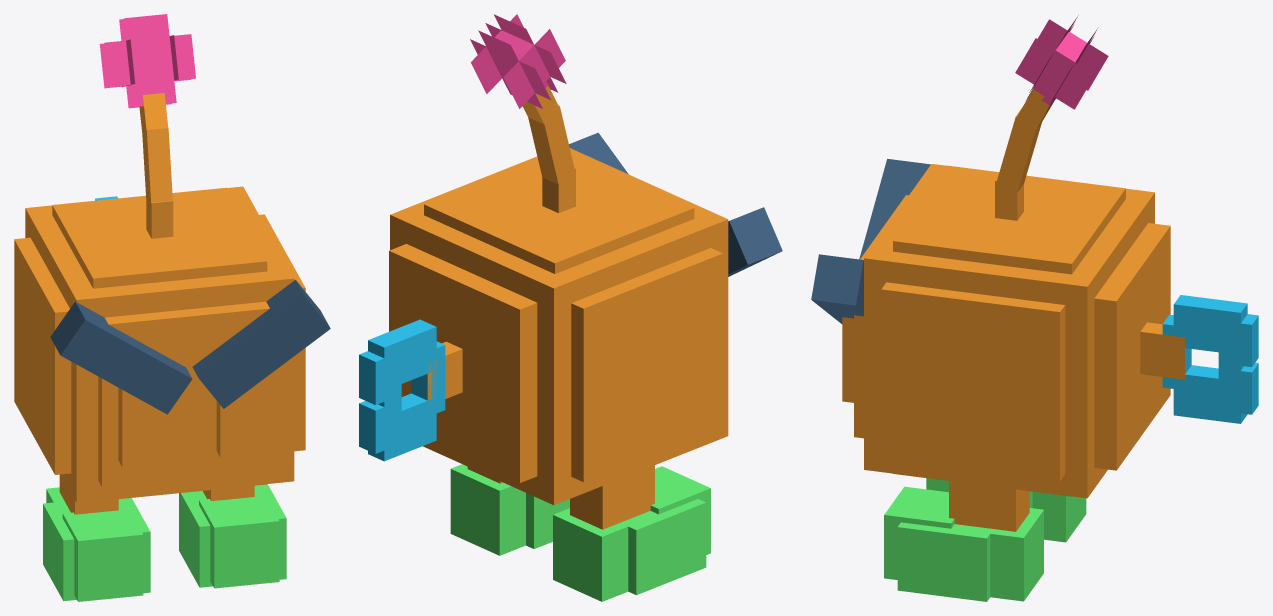
Rendered from ToyObject_058.fbx.
3 views of the same model, side by side, from view 1: azimuth 30°, elevation 25°; view 2: azimuth 150°, elevation 25°; view 3: azimuth 270°, elevation 25° (orthographic). The views are drawn at different scales.
Parts seen in each view (by area): view 1: object-1.029; view 2: object-1.029; view 3: object-1.029.
Part boxes in pixels (x1,y1,x2,y2): object-1.029: (14, 14, 330, 601); object-1.029: (359, 14, 782, 601); object-1.029: (811, 15, 1258, 601).
Size of the model in its own units: 0.1058 by 0.1839 by 0.1387.
